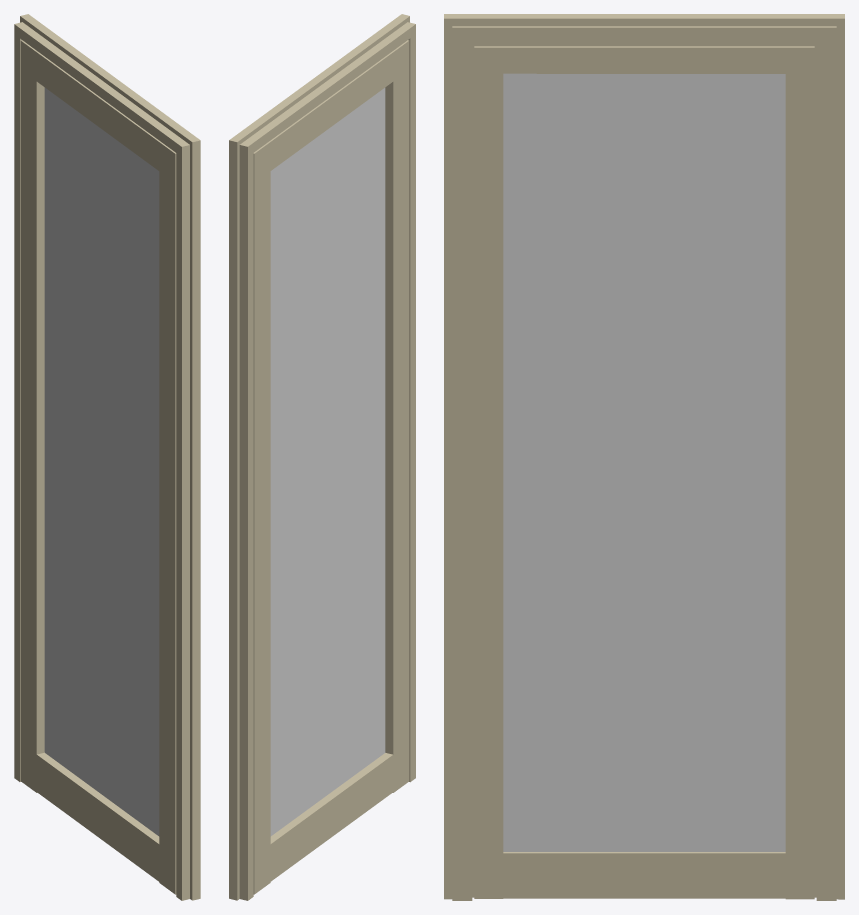
The model's file is MainDoor1Transformed1.fbx.
The picture shows the model from 3 angles, left to right: view 1: azimuth 30°, elevation 25°; view 2: azimuth 150°, elevation 25°; view 3: azimuth 270°, elevation 25°; orthographic projection. The views are drawn at different scales.
Visible parts, largest first — view 1: 45-25-28-344_- Aluminium Glazed Single Door (EDT 09):EDT 09(; view 2: 45-25-28-344_- Aluminium Glazed Single Door (EDT 09):EDT 09(; view 3: 45-25-28-344_- Aluminium Glazed Single Door (EDT 09):EDT 09(.
Part boxes in pixels (bbox=[...]): 45-25-28-344_- Aluminium Glazed Single Door (EDT 09):EDT 09(: bbox=[14, 14, 200, 900]; 45-25-28-344_- Aluminium Glazed Single Door (EDT 09):EDT 09(: bbox=[229, 14, 415, 900]; 45-25-28-344_- Aluminium Glazed Single Door (EDT 09):EDT 09(: bbox=[444, 14, 844, 900].
Size of the model in its own units: 0.0657 by 2.46 by 1.02.
